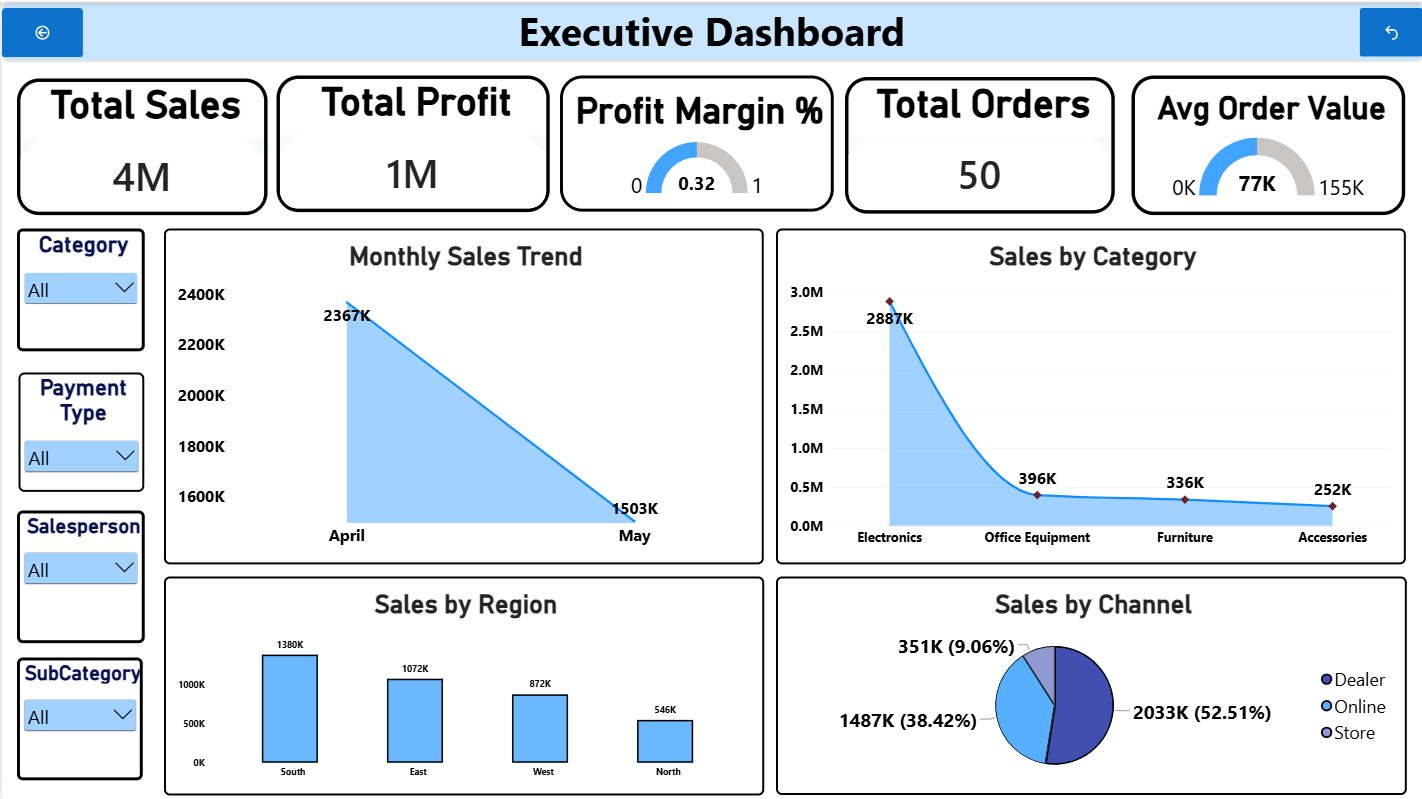

The page's visual inventory and layout, read from the dashboard file:
{"tool":"powerbi","page":{"name":"Executive ","canvas":[1920,1080],"ordinal":0},"visuals":[{"type":"gauge","title":"Avg Order Value","fields":{"Y":["FactSales.Average Order Value"]},"box":[1527.4,99.9,369.9,188.4],"z":0},{"type":"textbox","box":[0,0,1920.1,81.1],"z":1000},{"type":"pieChart","title":"Sales by Channel","fields":{"Category":["FactSales.SalesChannel"],"Y":["FactSales.Total Sales"]},"box":[1045.3,776.3,852.8,295.2],"z":2000},{"type":"lineChart","title":"Monthly Sales Trend","fields":{"Category":["DimDate.MonthName"],"Y":["FactSales.Total Sales"]},"box":[219,306.2,810.9,454.3],"z":3000},{"type":"clusteredColumnChart","title":"Sales by Region","fields":{"Category":["DimCustomer.Region"],"Y":["FactSales.Total Sales"]},"box":[219,776.6,811,296],"z":4000},{"type":"areaChart","title":"Sales by Category","fields":{"Category":["DimProduct.Category"],"Y":["FactSales.Total Sales"]},"box":[1046.2,306.2,851.6,454.2],"z":5000},{"type":"cardVisual","title":"  Total Sales","fields":{"Data":["FactSales.Total Sales"]},"box":[20.3,103.4,338.6,184.5],"z":6000},{"type":"cardVisual","title":"  Total Profit","fields":{"Data":["FactSales.Total Profit"]},"box":[371,99.4,369,184.5],"z":7000},{"type":"cardVisual","title":"  Total Orders","fields":{"Data":["FactSales.Total Orders"]},"box":[1139.5,101.4,365,184.5],"z":8000},{"type":"slicer","title":"Category","fields":{"Values":["DimProduct.Category"]},"box":[20.4,306.4,172.5,165.7],"z":9000},{"type":"slicer","title":"Payment Type","fields":{"Values":["FactSales.PaymentMethod"]},"box":[22.7,501.6,170.2,161.1],"z":10000},{"type":"slicer","title":"Salesperson","fields":{"Values":["DimSalesperson.SalespersonName"]},"box":[20.3,687.3,172.5,179.3],"z":11000},{"type":"slicer","title":"SubCategory","fields":{"Values":["DimProduct.SubCategory"]},"box":[20.3,886,170.2,165.7],"z":12000},{"type":"actionButton","box":[1835,8.1,86.5,66],"z":13000},{"type":"actionButton","box":[0,8.7,109.5,66.9],"z":14000},{"type":"gauge","title":"Profit Margin %","fields":{"Y":["FactSales.Profit Margin %"]},"box":[754.3,99.4,369.9,183.8],"z":15000}]}

Visuals, with their boxes in screenshot pixels (x1, y1, x2, y2), scaled from the page's 1920x1080 canvas onto the 1422x799 screenshot:
"Avg Order Value" gauge: select_region(1131, 74, 1405, 213)
textbox: select_region(0, 0, 1421, 60)
"Sales by Channel" pieChart: select_region(774, 574, 1406, 793)
"Monthly Sales Trend" lineChart: select_region(162, 227, 763, 563)
"Sales by Region" clusteredColumnChart: select_region(162, 575, 763, 794)
"Sales by Category" areaChart: select_region(775, 227, 1406, 563)
"  Total Sales" cardVisual: select_region(15, 76, 266, 213)
"  Total Profit" cardVisual: select_region(275, 74, 548, 210)
"  Total Orders" cardVisual: select_region(844, 75, 1114, 212)
"Category" slicer: select_region(15, 227, 143, 349)
"Payment Type" slicer: select_region(17, 371, 143, 490)
"Salesperson" slicer: select_region(15, 508, 143, 641)
"SubCategory" slicer: select_region(15, 655, 141, 778)
actionButton: select_region(1359, 6, 1421, 55)
actionButton: select_region(0, 6, 81, 56)
"Profit Margin %" gauge: select_region(559, 74, 833, 210)
